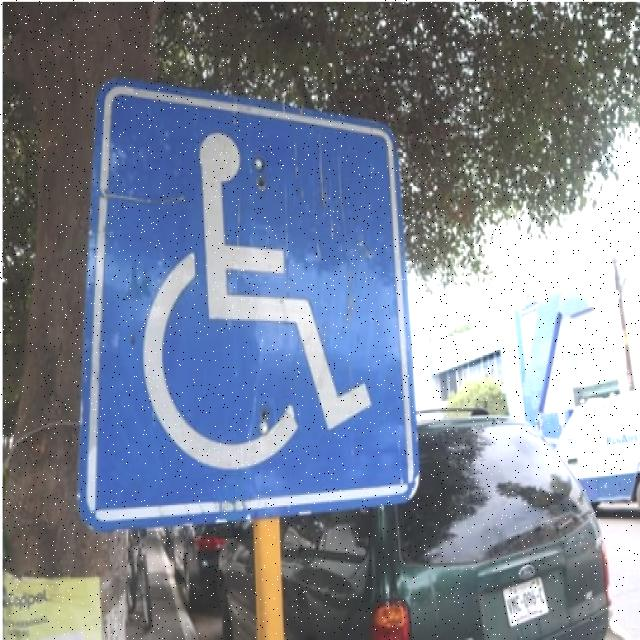symbol_of_access: (76, 75, 422, 535)
